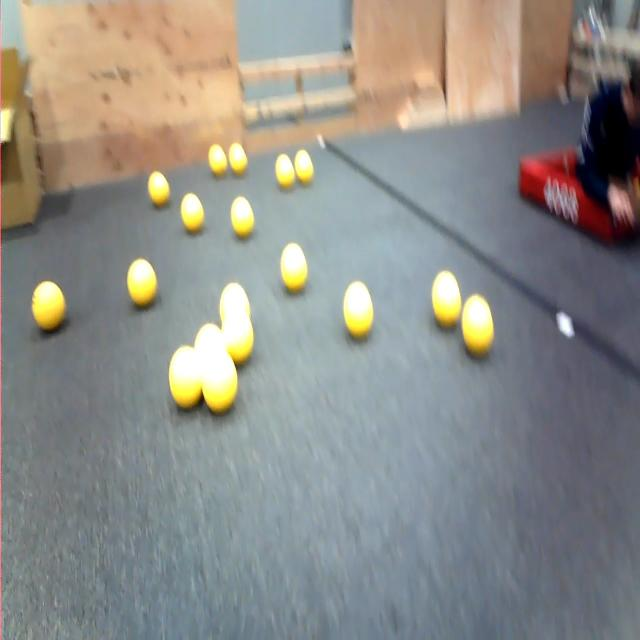Bumper: (510, 137, 640, 249)
fuel: (458, 287, 499, 365), (204, 340, 244, 418), (166, 338, 206, 415), (338, 271, 378, 345), (27, 272, 72, 337), (426, 264, 464, 332), (121, 253, 163, 314), (221, 309, 262, 371), (227, 194, 266, 257), (280, 239, 318, 297), (178, 187, 211, 248), (294, 141, 322, 198), (142, 163, 174, 212), (271, 150, 303, 197), (194, 319, 225, 364), (200, 140, 230, 184), (220, 277, 249, 317), (226, 140, 252, 181)
